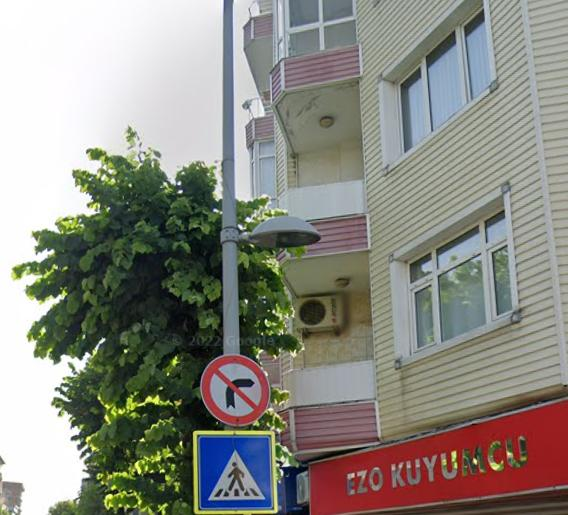rightturnsareforbidden: (202, 355, 272, 427)
